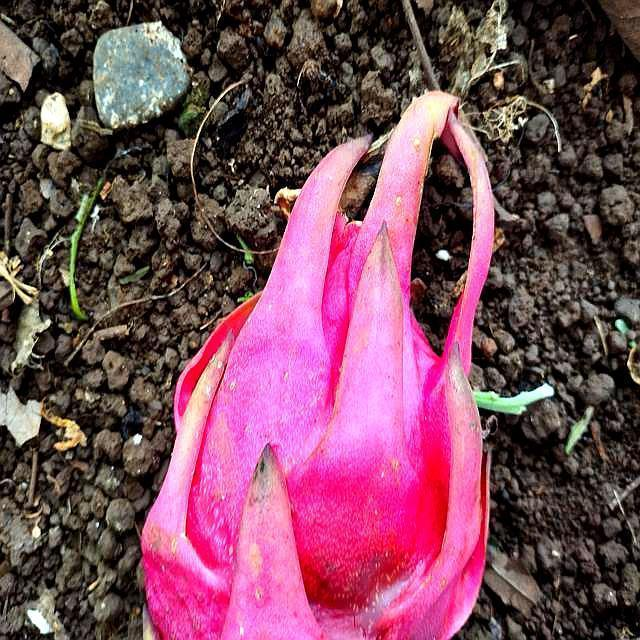Biodegradable: (141, 101, 497, 640)
